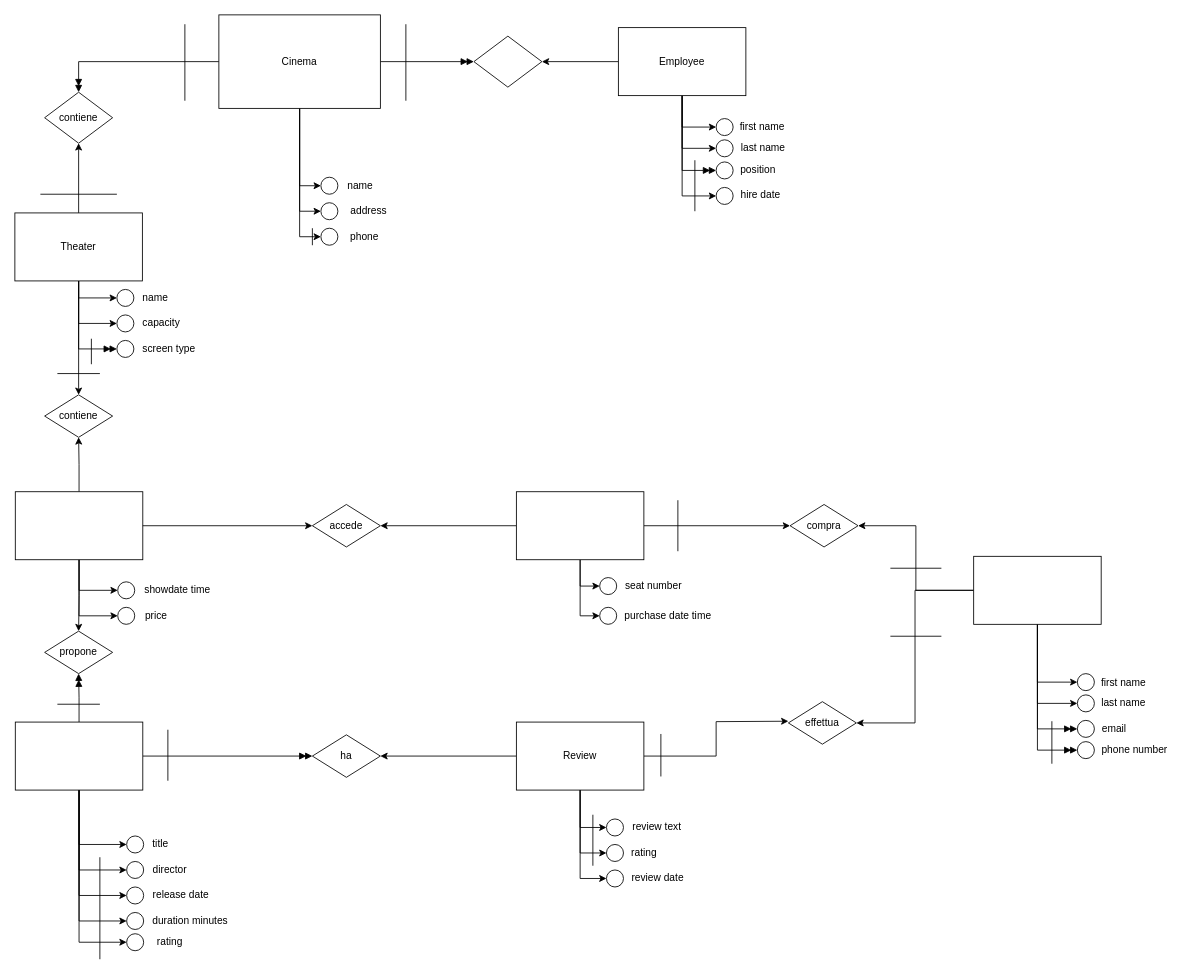
Image size: 1192x975. Some labels were removed from this diagram. Here are the shapes that lost their labels. From the top down, the centre of each, then its label:
At (x=507, y=61): "lavora".
At (x=78, y=525): "Showtime".
At (x=580, y=525): "Ticket".
At (x=1037, y=589): "Customer".
At (x=78, y=755): "Movie".
